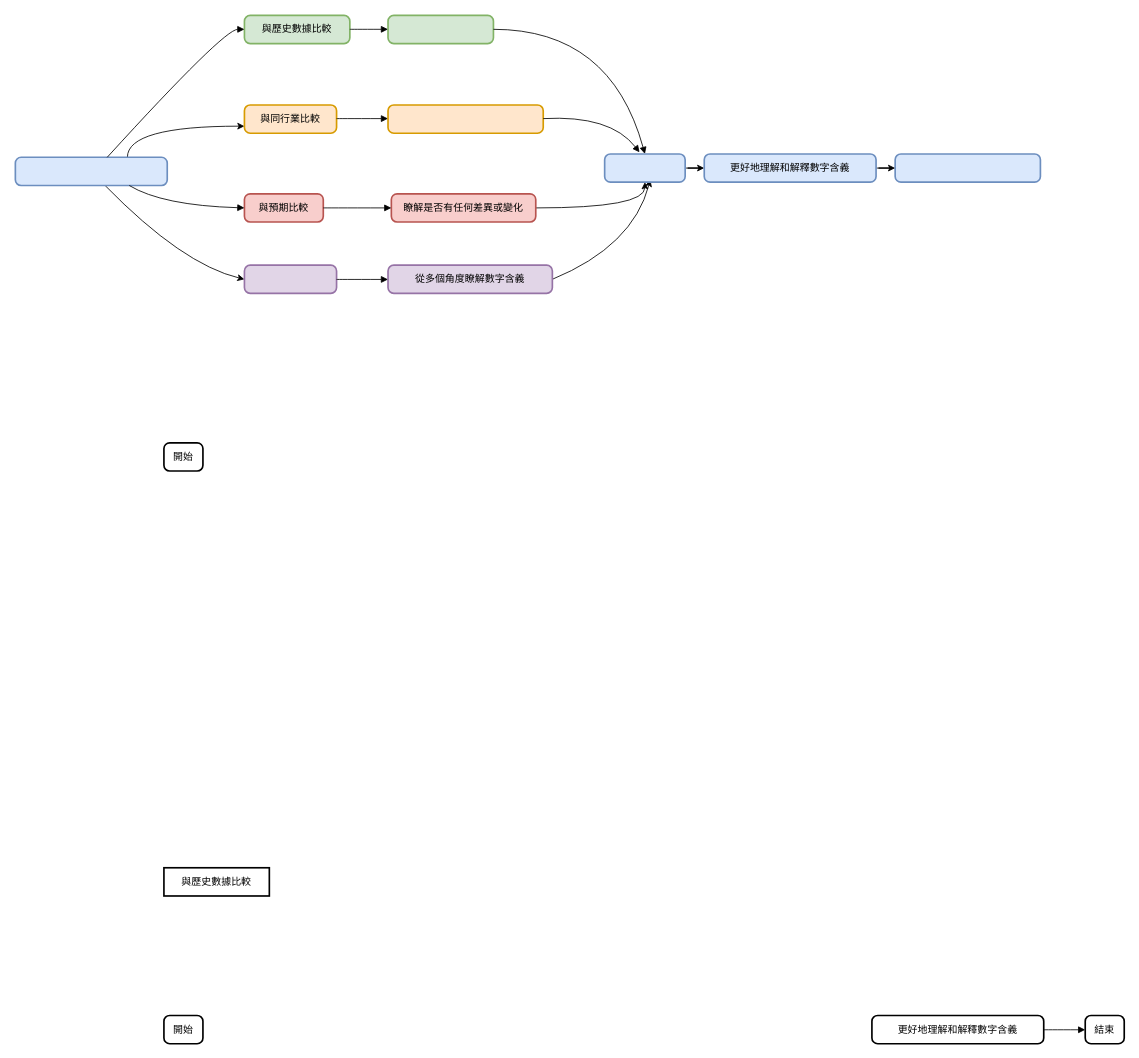
This 1139x1058 diagram has some shape labels left out. Each missing label, with the centre of its shape:
"得出趨勢和變化的結論" belongs at point 967,168.
"收集及整理數據" belongs at point 91,171.
"瞭解公司或業務在行業中的位置" belongs at point 465,119.
"瞭解趨勢和變化" belongs at point 440,29.
"討論與其他人" belongs at point 290,279.
"轉換為文字描述" belongs at point 644,168.
